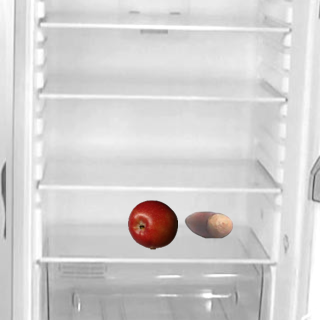Apple Braeburn: (127, 199, 177, 249)
Hazelnut: (183, 199, 233, 249)
